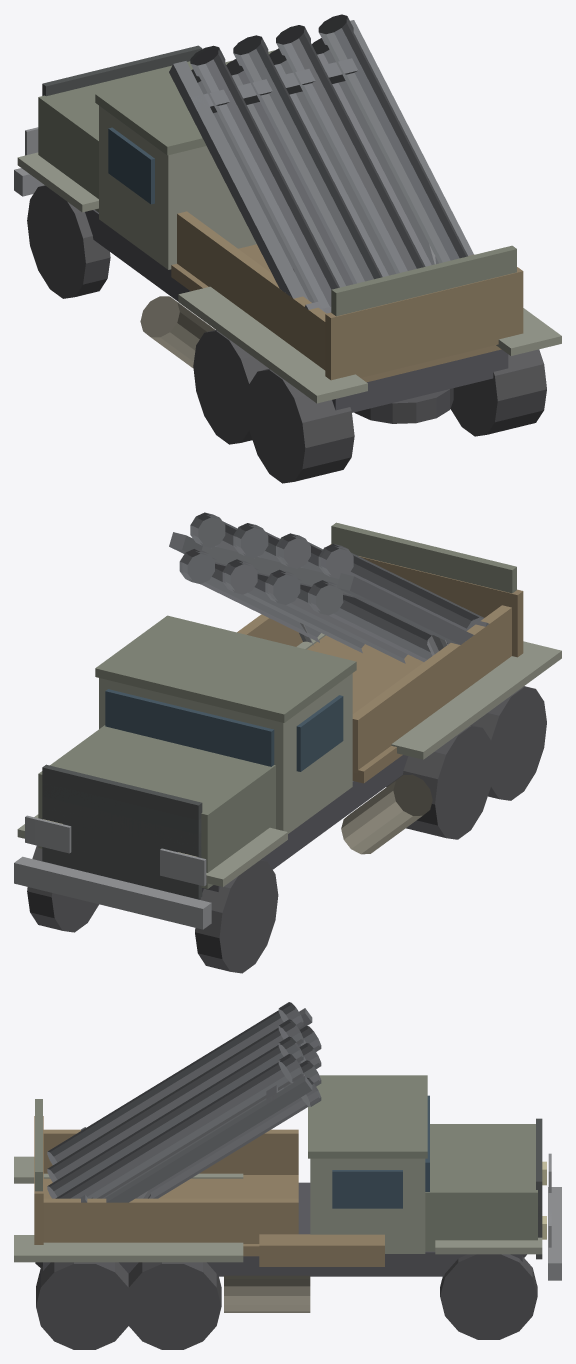
Rendered from soviet_katyusha.glb.
The picture shows the model from 3 angles, top to bottom: view 1: azimuth 30°, elevation 25°; view 2: azimuth 150°, elevation 25°; view 3: azimuth 270°, elevation 25°; orthographic projection. The views are drawn at different scales.
Visible parts, largest first — view 1: turret, Bed, Cab, wheel_l03b, Chassis, wheel_l01a, Bonnet, wheel_l02b, Shield, CabRoof, Mudguard_l3, wheel_r03a (+9 smaller); view 2: turret, Bed, CabRoof, Bonnet, Radiator, Cab, Screen, wheel_l01a, wheel_l02b, Bumper, wheel_l03b, Shield (+9 smaller); view 3: turret, Bed, Bonnet, CabRoof, wheel_r02b, wheel_r03b, Cab, wheel_r01a, Chassis, Stowage, FuelTank_r, Mudguard_r2 (+7 smaller).
Part boxes in pixels (x1,y1,x2,y2): turret: [169, 14, 473, 313]; Bed: [171, 211, 523, 382]; Cab: [99, 106, 256, 269]; wheel_l03b: [246, 369, 329, 483]; Chassis: [85, 209, 508, 412]; wheel_l01a: [27, 185, 110, 298]; Bonnet: [38, 61, 192, 212]; wheel_l02b: [193, 330, 268, 444]; Shield: [331, 245, 516, 316]; CabRoof: [95, 50, 274, 155]; Mudguard_l3: [232, 325, 367, 403]; wheel_r03a: [450, 354, 522, 436]; turret: [169, 512, 488, 663]; Bed: [237, 544, 523, 783]; CabRoof: [95, 615, 356, 722]; Bonnet: [38, 725, 275, 888]; Radiator: [42, 764, 202, 899]; Cab: [99, 673, 352, 833]; Screen: [105, 689, 274, 766]; wheel_l01a: [195, 860, 278, 973]; wheel_l02b: [413, 725, 493, 839]; Bumper: [14, 856, 211, 929]; wheel_l03b: [471, 686, 546, 800]; Shield: [331, 522, 516, 593]; turret: [47, 1002, 321, 1202]; Bed: [34, 1116, 298, 1256]; Bonnet: [425, 1124, 537, 1251]; CabRoof: [308, 1075, 427, 1158]; wheel_r02b: [124, 1262, 221, 1349]; wheel_r03b: [36, 1262, 133, 1349]; Cab: [310, 1158, 425, 1253]; wheel_r01a: [440, 1254, 537, 1339]; Chassis: [43, 1182, 522, 1276]; Stowage: [259, 1234, 384, 1266]; FuelTank_r: [224, 1275, 310, 1312]; Mudguard_r2: [102, 1242, 243, 1262].
Bounding box in the file's own units: 2.98 × 3.81 × 6.97.
